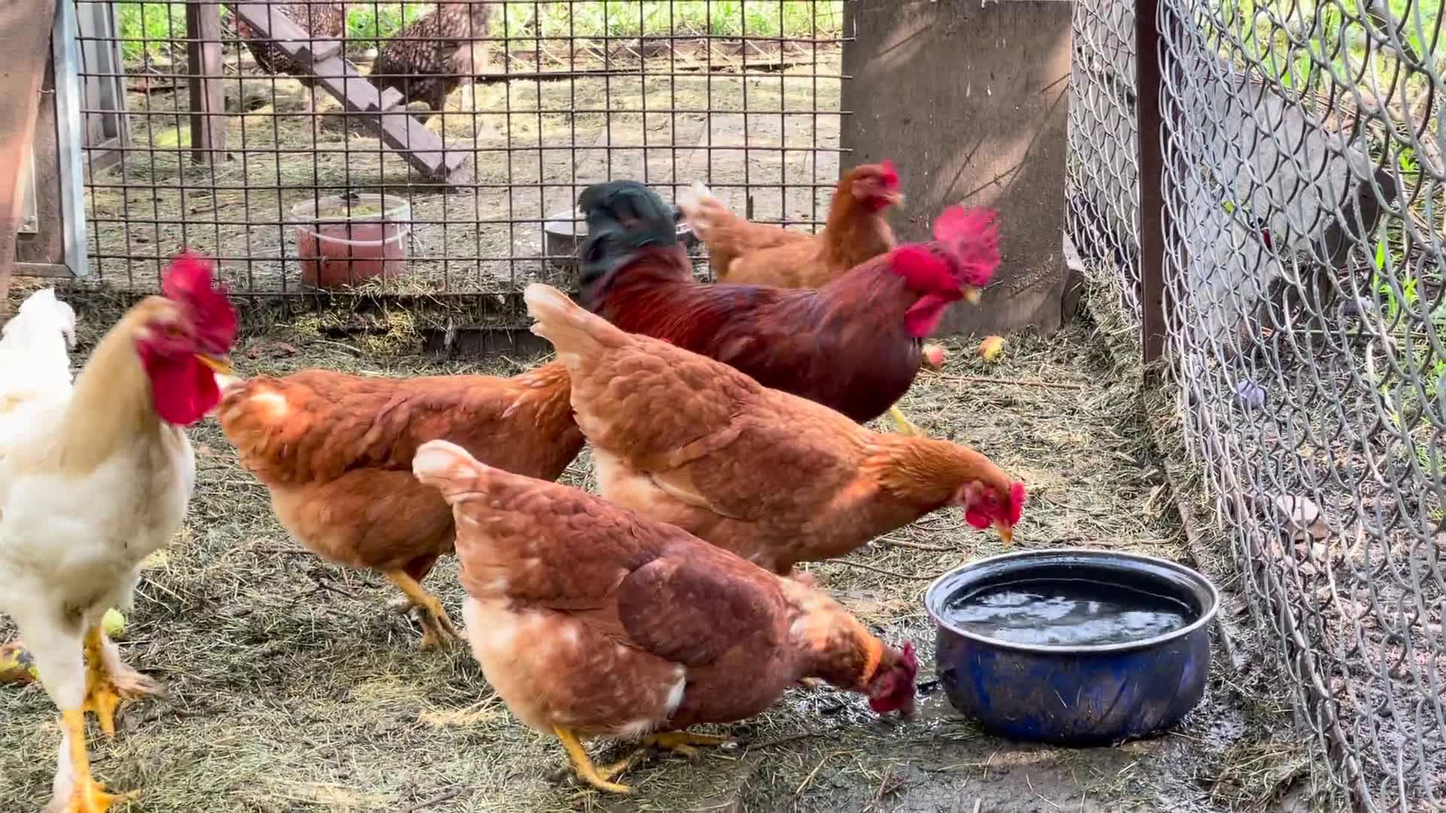Normal: (418, 437, 918, 800), (516, 277, 1046, 565), (6, 251, 242, 813), (582, 187, 1027, 428), (226, 356, 557, 664), (678, 162, 920, 298)
